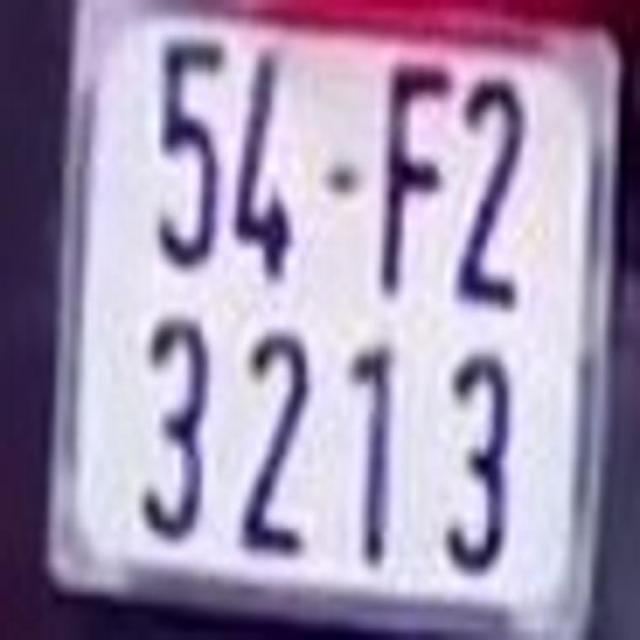1: (347, 344, 397, 567)
2: (240, 328, 308, 554), (460, 74, 520, 312)
3: (446, 350, 510, 572), (145, 315, 204, 536)
4: (232, 49, 299, 282)
5: (154, 32, 223, 266)
F: (384, 52, 451, 295)
